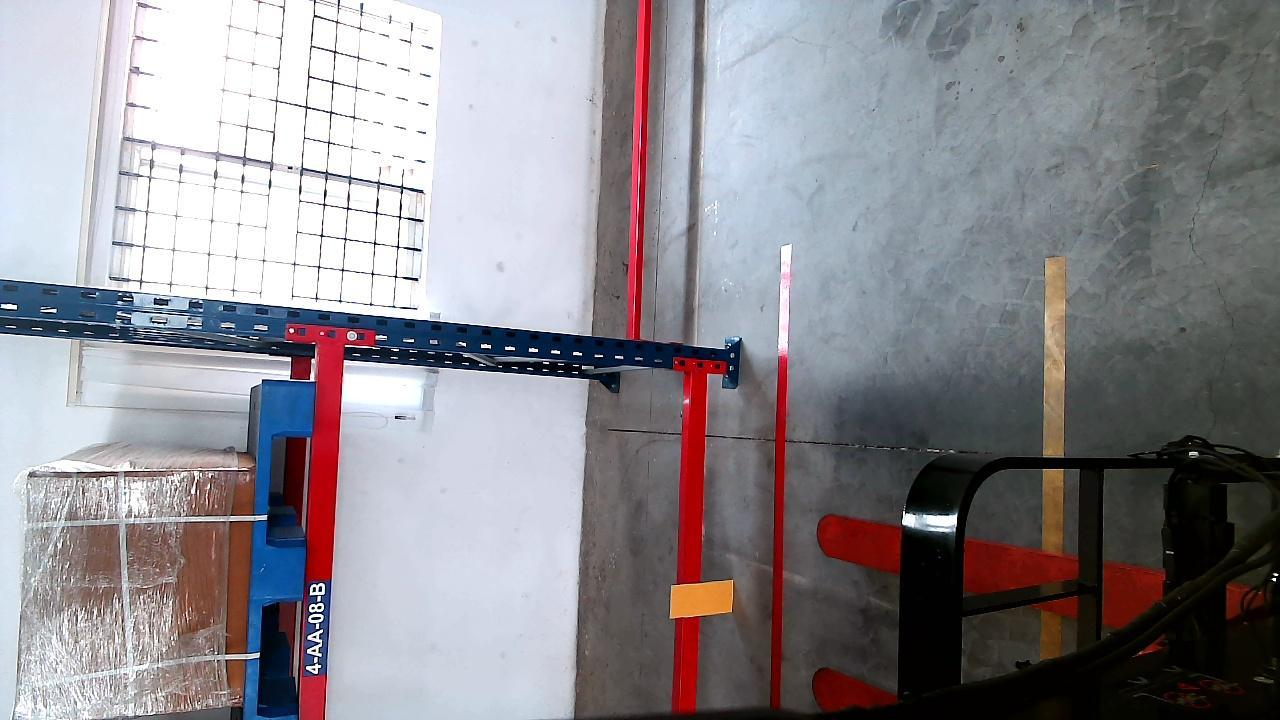red_line: (764, 245, 791, 716)
yellow_line: (1041, 246, 1067, 654)
